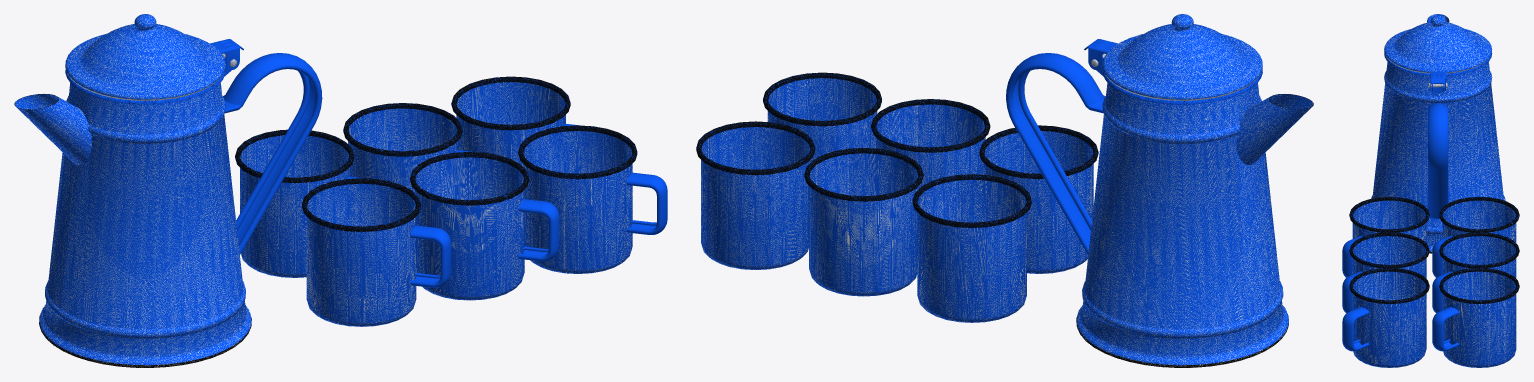
File: tea-maker.dae
The picture shows the model from 3 angles, left to right: view 1: azimuth 30°, elevation 25°; view 2: azimuth 150°, elevation 25°; view 3: azimuth 270°, elevation 25°; orthographic projection. The views are drawn at different scales.
Parts seen in each view (by area): view 1: Demi-tasse (×27), Demi-Brot (×6), Demi-Couvercle (×2); view 2: Demi-tasse (×24), Demi-Brot (×6), Demi-Couvercle (×2); view 3: Demi-tasse (×36), Demi-Brot (×6), Demi-Couvercle (×2).
Part boxes in pixels (x1,y1,x2,y2): Demi-tasse (×27): [235, 76, 666, 326]; Demi-Brot (×6): [15, 53, 322, 367]; Demi-Couvercle (×2): [65, 14, 225, 99]; Demi-tasse (×24): [696, 72, 1098, 322]; Demi-Brot (×6): [1006, 53, 1313, 367]; Demi-Couvercle (×2): [1102, 14, 1262, 99]; Demi-tasse (×36): [1342, 197, 1519, 367]; Demi-Brot (×6): [1371, 14, 1505, 251]; Demi-Couvercle (×2): [1384, 15, 1492, 72].
Size of the model in its own units: 17.01 by 6.61 by 8.54.
